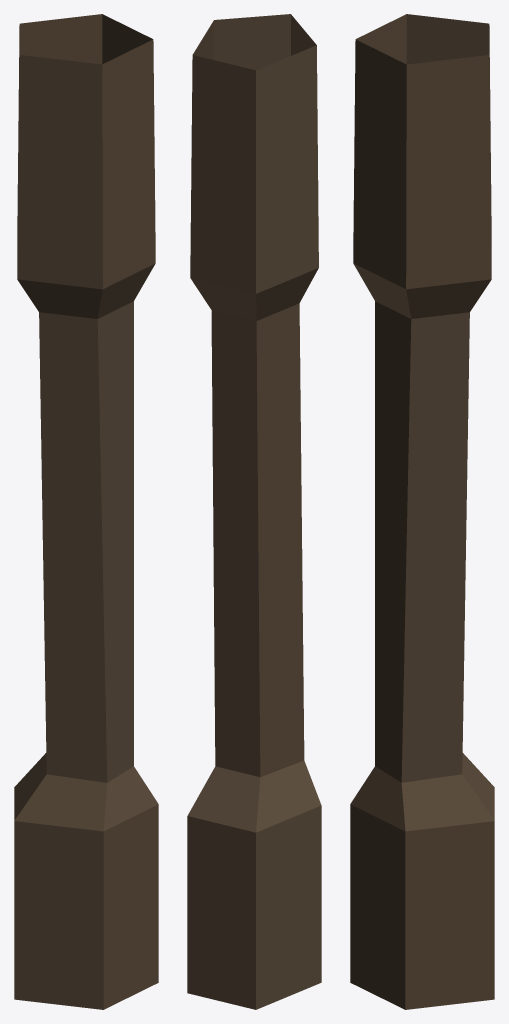
The model's file is SM_Bld_House_Interior_StairsRail_Post_01.fbx.
3 views of the same model, side by side, from view 1: azimuth 90°, elevation 25°; view 2: azimuth 150°, elevation 25°; view 3: azimuth 270°, elevation 25° (orthographic).
Parts seen in each view (by area): view 1: SM_Bld_House_Interior_StairsRail_Post_01; view 2: SM_Bld_House_Interior_StairsRail_Post_01; view 3: SM_Bld_House_Interior_StairsRail_Post_01.
Part boxes in pixels (bbox=[...]): SM_Bld_House_Interior_StairsRail_Post_01: bbox=[14, 14, 158, 1009]; SM_Bld_House_Interior_StairsRail_Post_01: bbox=[187, 14, 321, 1009]; SM_Bld_House_Interior_StairsRail_Post_01: bbox=[350, 14, 494, 1009].
Size of the model in its own units: 14.6 by 118 by 16.35.
